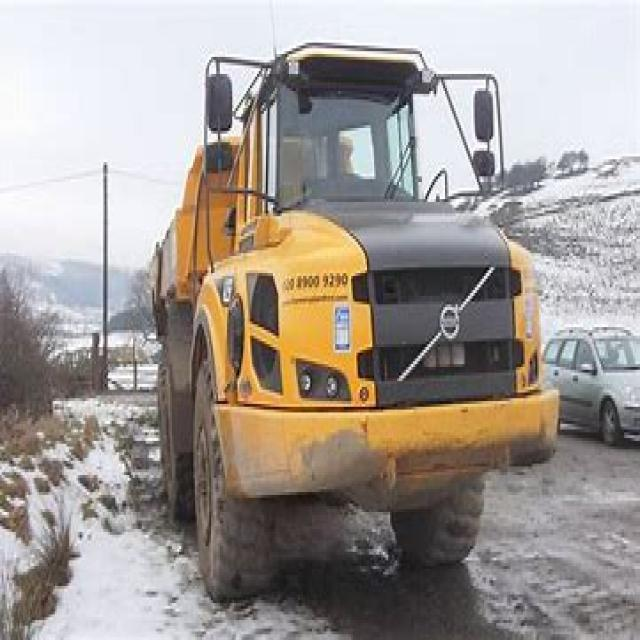dump_truck: (126, 34, 560, 600)
